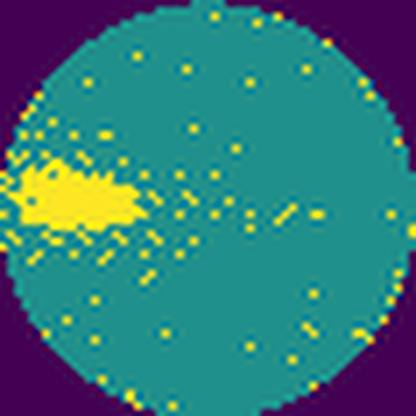Loc: (10, 156, 150, 232)
